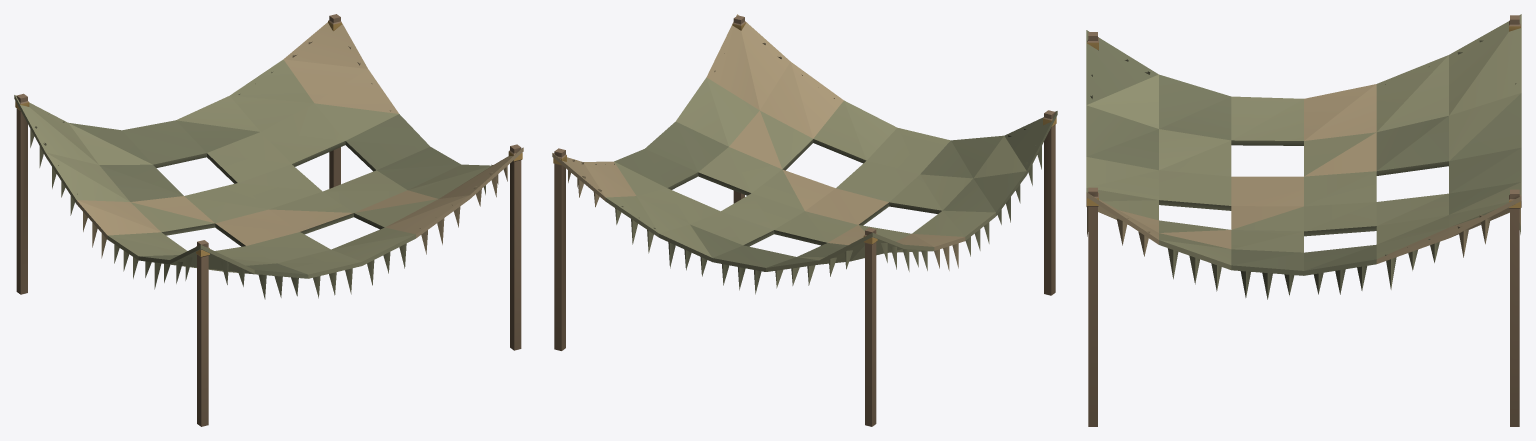
File: tarp.glb
3 renders of one model, left to right at view 1: azimuth 30°, elevation 25°; view 2: azimuth 150°, elevation 25°; view 3: azimuth 270°, elevation 25°, orthographic. The views are drawn at different scales.
Parts seen in each view (by area): view 1: tarp; view 2: tarp; view 3: tarp.
Boxes of the visible parts, left/top/right/bottom form: tarp: left=14, top=14, right=523, bottom=426; tarp: left=552, top=14, right=1057, bottom=426; tarp: left=1086, top=14, right=1521, bottom=426.
Size of the model in its own units: 5.6 by 3.35 by 5.6.
